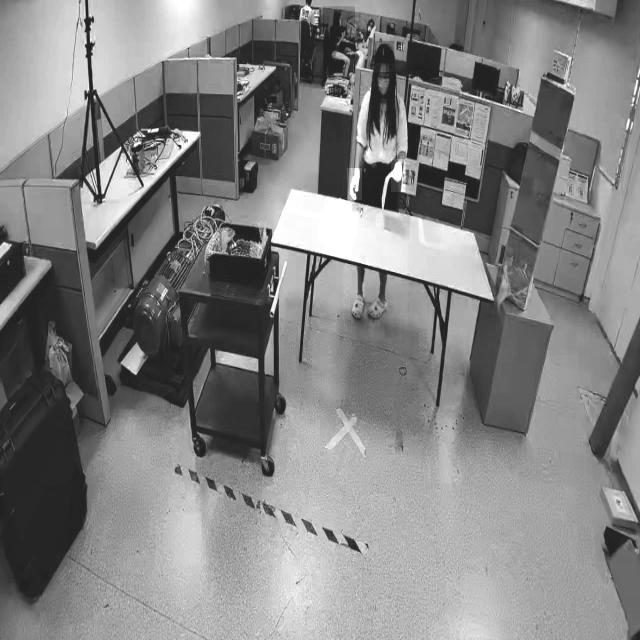face_mask: (375, 72, 395, 100)
hand_glove: (347, 168, 362, 200), (391, 159, 405, 192)
head_nohelmet: (374, 41, 394, 64), (334, 10, 342, 17)
person: (342, 45, 408, 342), (323, 6, 355, 86)
